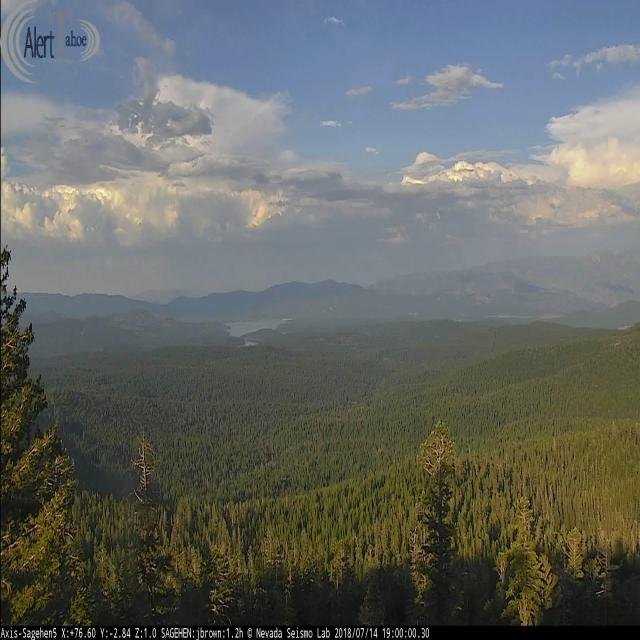smoke: (80, 322, 87, 335)
